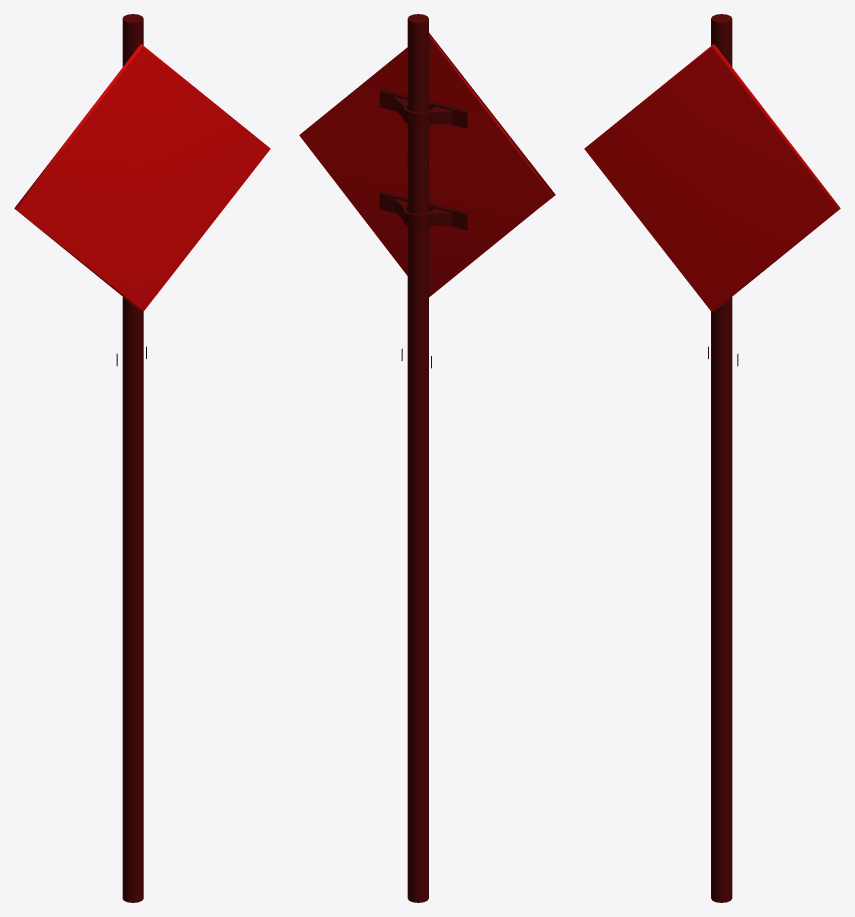
The model's file is Roadsign005.glb.
The picture shows the model from 3 angles, left to right: view 1: azimuth 30°, elevation 25°; view 2: azimuth 150°, elevation 25°; view 3: azimuth 330°, elevation 25°; orthographic projection.
Visible parts, largest first — view 1: Roadsign005; view 2: Roadsign005; view 3: Roadsign005.
Part boxes in pixels (x1,y1,x2,y2): Roadsign005: (14,14,270,902); Roadsign005: (299,14,555,902); Roadsign005: (584,14,840,902).
Size of the model in its own units: 3.87 by 12.83 by 0.4534.
